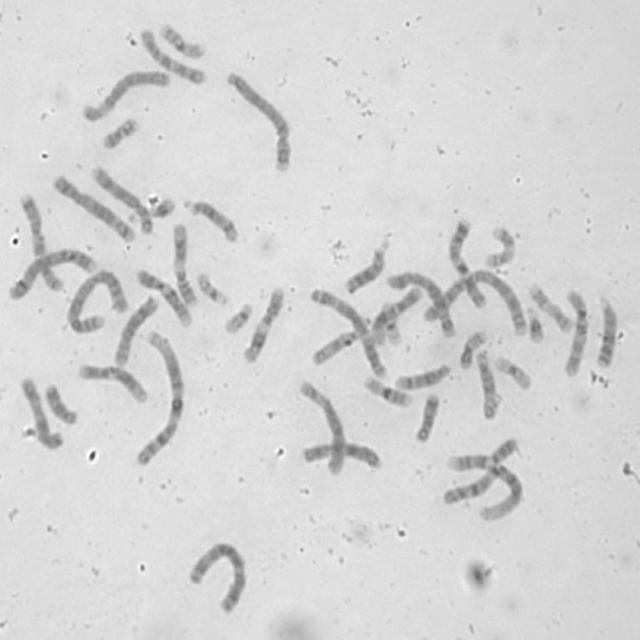A1: (131, 325, 187, 469), (440, 458, 525, 523)
A2: (420, 265, 527, 338), (65, 267, 129, 335)
A3: (307, 284, 387, 379), (185, 538, 249, 616)
B4: (223, 68, 294, 174), (6, 246, 97, 303)
B5: (51, 173, 138, 243), (383, 268, 458, 340)
C10: (137, 26, 208, 87), (562, 288, 590, 378)
C11: (239, 284, 286, 366), (169, 219, 198, 308)
C12: (369, 284, 423, 349), (75, 360, 151, 406)
C6: (294, 377, 348, 478), (79, 66, 171, 124)
C7: (16, 191, 66, 294), (444, 217, 490, 311)
C8: (88, 162, 155, 235), (111, 291, 161, 368)
C9: (132, 265, 192, 328), (445, 434, 520, 473)
D13: (341, 234, 393, 296), (592, 290, 618, 370)
D14: (181, 194, 239, 244), (392, 362, 452, 392)
D15: (16, 375, 64, 452), (473, 346, 501, 422)
E16: (155, 20, 206, 61), (360, 371, 414, 409)
E17: (526, 280, 574, 334), (482, 223, 518, 267)
E18: (42, 381, 79, 427), (412, 390, 441, 444)
F19: (492, 355, 532, 391), (378, 301, 406, 348)
F20: (99, 114, 139, 151), (456, 326, 488, 372)
G21: (522, 302, 546, 346), (146, 194, 177, 220)
G22: (194, 269, 230, 307), (221, 300, 254, 336)
X: (298, 438, 384, 472)
